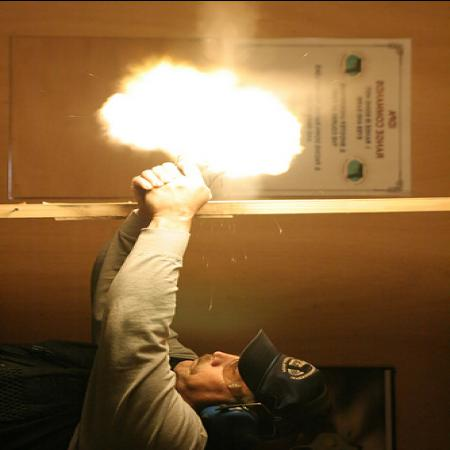Pistol: (142, 132, 232, 200)
